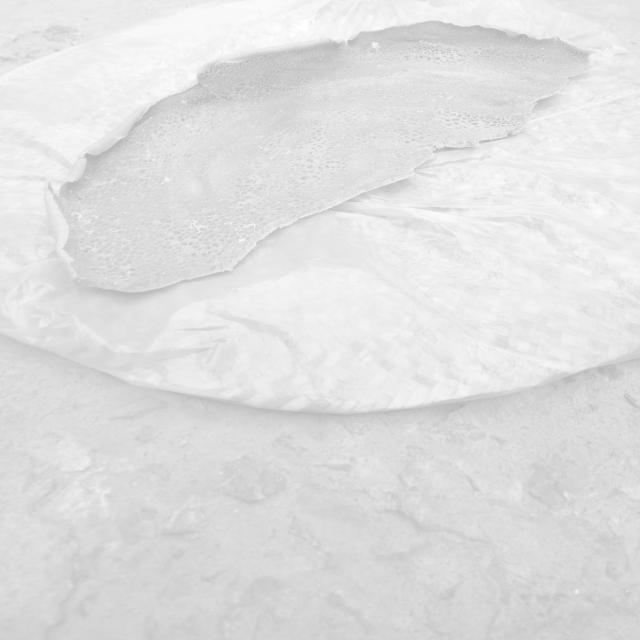injera_mold: (70, 209, 98, 230), (184, 218, 211, 234), (234, 222, 261, 232), (142, 150, 158, 163), (132, 167, 152, 177), (107, 216, 121, 228), (80, 246, 95, 254), (93, 180, 107, 188), (74, 194, 84, 202), (258, 145, 270, 151), (108, 228, 124, 232), (77, 234, 86, 240), (238, 93, 247, 99), (236, 238, 248, 242), (126, 270, 134, 276), (279, 148, 291, 152), (180, 100, 188, 104), (217, 199, 225, 203), (165, 177, 171, 182), (255, 135, 265, 138), (110, 197, 116, 202), (175, 158, 182, 162), (83, 176, 90, 180), (185, 124, 191, 127), (222, 172, 230, 174), (160, 182, 164, 185), (270, 157, 274, 160), (378, 65, 384, 67), (114, 282, 118, 284)
